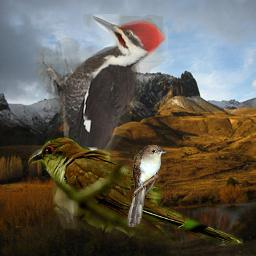Cuckoo: (28, 135, 243, 247), (127, 144, 167, 227)
Woodpecker: (36, 14, 168, 229)
